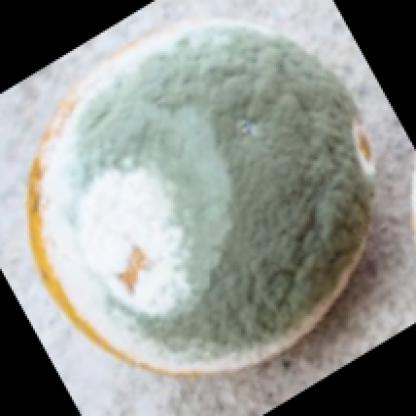rotten: (29, 24, 373, 380)
